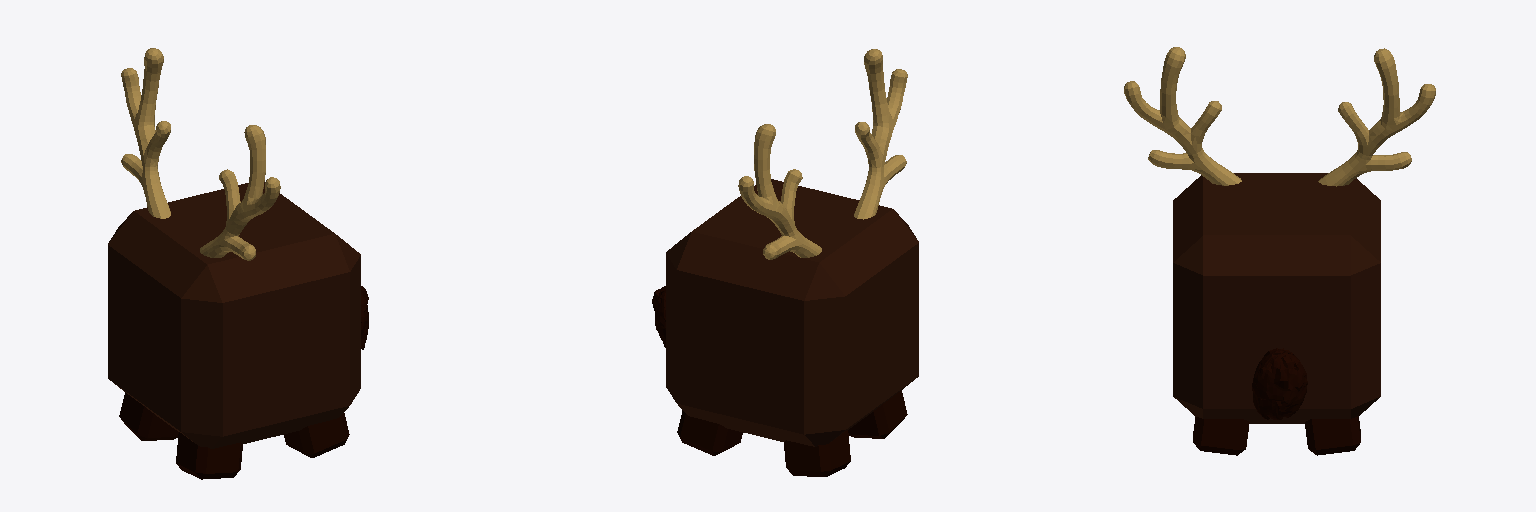
File: Deer.obj
3 views of the same model, side by side, from view 1: azimuth 30°, elevation 25°; view 2: azimuth 150°, elevation 25°; view 3: azimuth 270°, elevation 25° (orthographic).
Visible parts, largest first — view 1: Meshes100kcube1, Meshpart1, Meshes100kcube0031; view 2: Meshes100kcube1, Meshpart1, Meshes100kcube0031, Meshescloudvert0011; view 3: Meshes100kcube1, Meshpart1, Meshes100kcube0031, Meshescloudvert0011.
Part boxes in pixels (x1,y1,x2,y2): Meshes100kcube1: (108, 182, 360, 448); Meshpart1: (121, 48, 280, 260); Meshes100kcube0031: (119, 392, 349, 479); Meshes100kcube1: (666, 179, 918, 446); Meshpart1: (738, 49, 907, 259); Meshes100kcube0031: (677, 390, 907, 476); Meshescloudvert0011: (652, 286, 665, 347); Meshes100kcube1: (1173, 173, 1380, 423); Meshpart1: (1124, 47, 1435, 186); Meshes100kcube0031: (1193, 416, 1360, 455); Meshescloudvert0011: (1252, 348, 1307, 419).
Size of the model in its own units: 2.24 by 3.44 by 2.69.